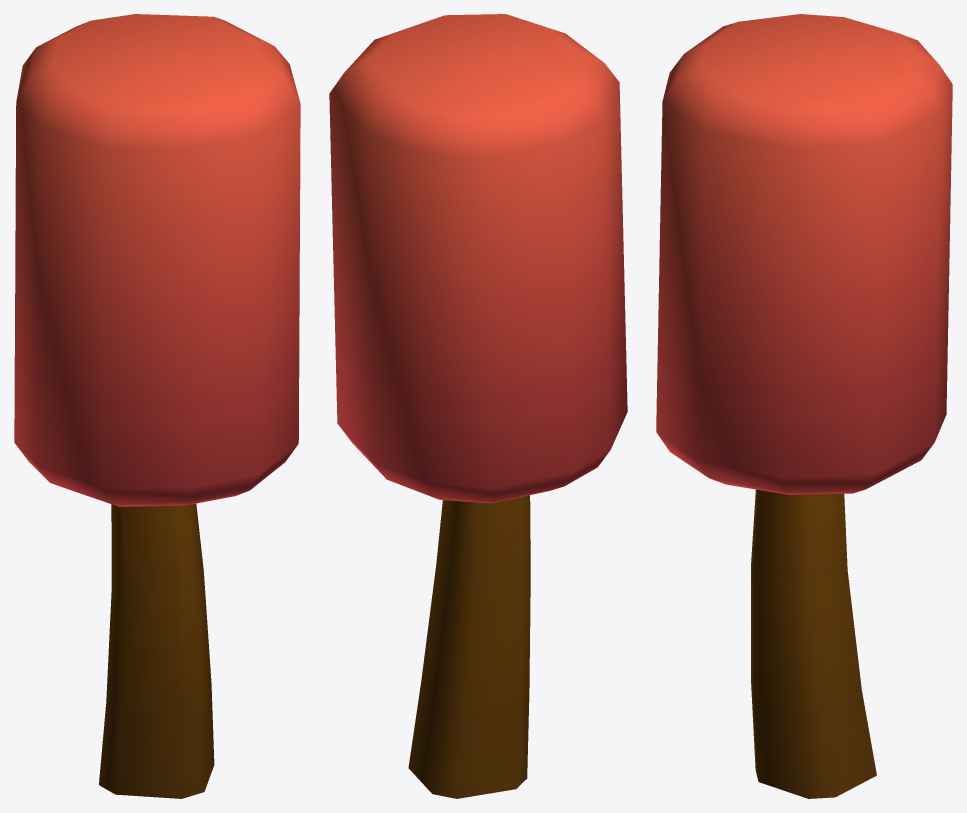
Rendered from Tree_E_1_.fbx.
The picture shows the model from 3 angles, left to right: view 1: azimuth 30°, elevation 25°; view 2: azimuth 150°, elevation 25°; view 3: azimuth 270°, elevation 25°; orthographic projection.
Parts seen in each view (by area): view 1: Tree_E_1; view 2: Tree_E_1; view 3: Tree_E_1.
Part boxes in pixels (x1,y1,x2,y2): Tree_E_1: (14, 14, 300, 798); Tree_E_1: (329, 14, 627, 798); Tree_E_1: (656, 14, 952, 798).
Bounding box in the file's own units: 127 × 348 × 130.
